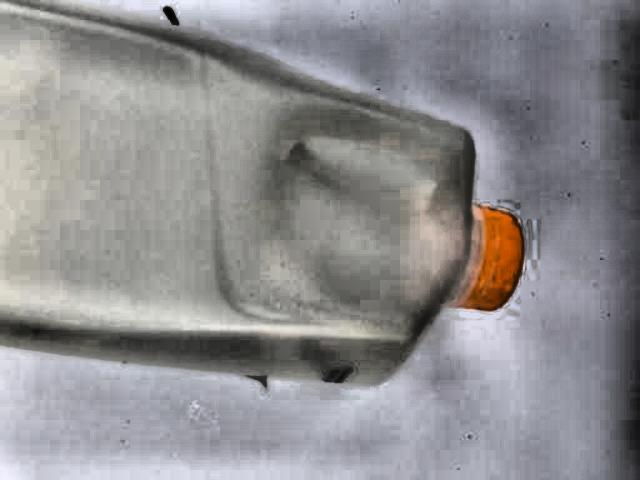Plastic: (0, 0, 526, 398)
